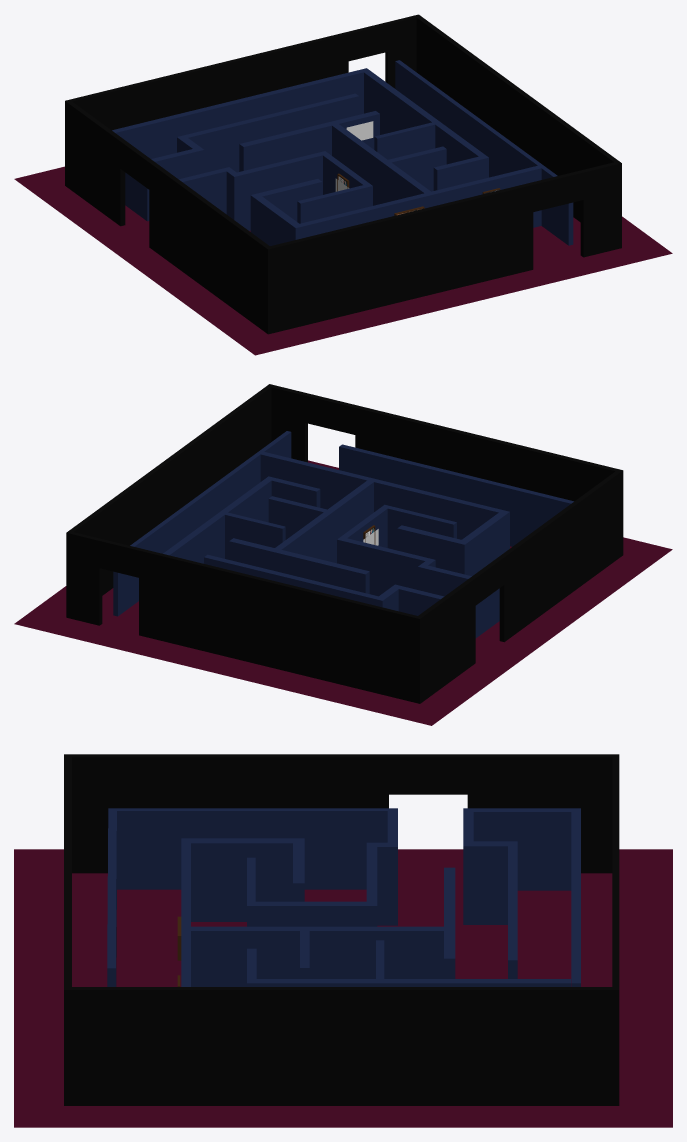
The model's file is birincilabirent.fbx.
The picture shows the model from 3 angles, top to bottom: view 1: azimuth 30°, elevation 25°; view 2: azimuth 150°, elevation 25°; view 3: azimuth 270°, elevation 25°; orthographic projection. The views are drawn at different scales.
Parts seen in each view (by area): view 1: Cube.007, Cube.006, Plane; view 2: Cube.007, Cube.006, Plane; view 3: Cube.007, Plane, Cube.006.
Part boxes in pixels (left/top/right/bottom): Cube.007: left=65, top=14, right=621, bottom=334; Cube.006: left=112, top=60, right=573, bottom=245; Plane: left=14, top=166, right=672, bottom=355; Cube.007: left=66, top=384, right=623, bottom=703; Cube.006: left=113, top=431, right=573, bottom=638; Plane: left=14, top=460, right=672, bottom=725; Cube.007: left=64, top=754, right=619, bottom=1105; Plane: left=14, top=849, right=672, bottom=1127; Cube.006: left=107, top=808, right=580, bottom=986.
Size of the model in its own units: 3490 by 677 by 3490.
7 materials, 3 textured.
